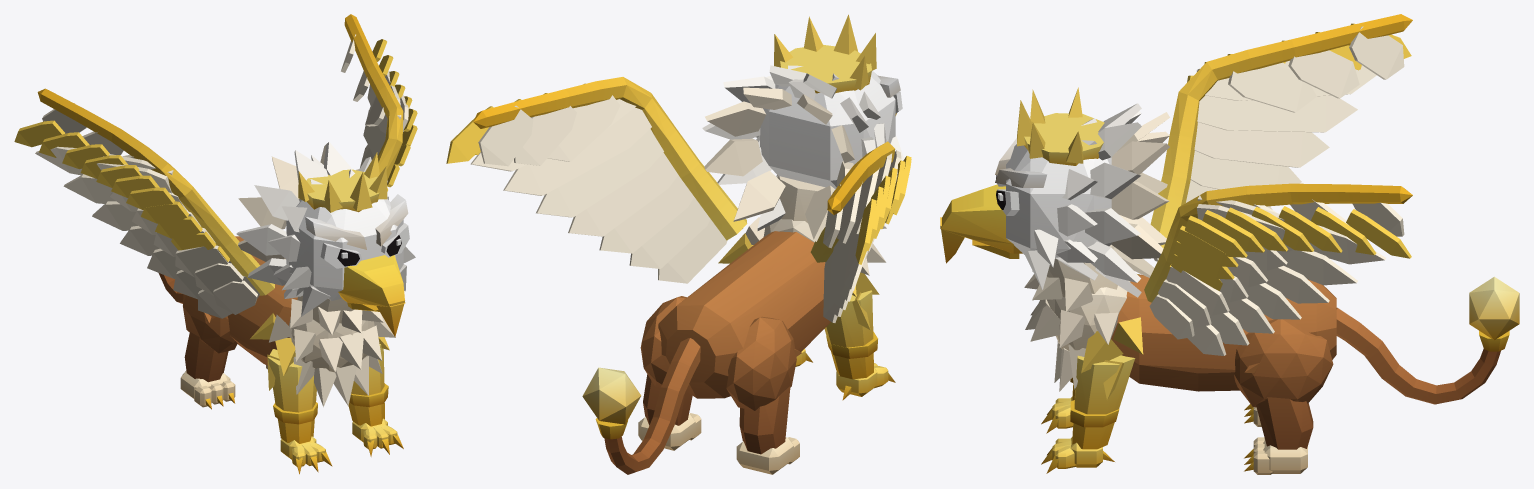
Rendered from glove_god_griffin.glb.
The picture shows the model from 3 angles, left to right: view 1: azimuth 30°, elevation 25°; view 2: azimuth 150°, elevation 25°; view 3: azimuth 270°, elevation 25°; orthographic projection. The views are drawn at different scales.
Visible parts, largest first — view 1: glove_god_griffin; view 2: glove_god_griffin; view 3: glove_god_griffin.
Boxes of the visible parts, <box> form: glove_god_griffin: <box>14,14,417,474</box>; glove_god_griffin: <box>446,14,911,474</box>; glove_god_griffin: <box>940,14,1519,474</box>.
Size of the model in its own units: 1.47 by 1.16 by 1.76.
1 material, 1 textured.
